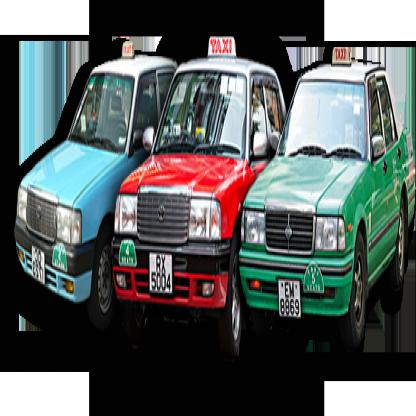taxi: (109, 35, 289, 375), (241, 36, 416, 367)
